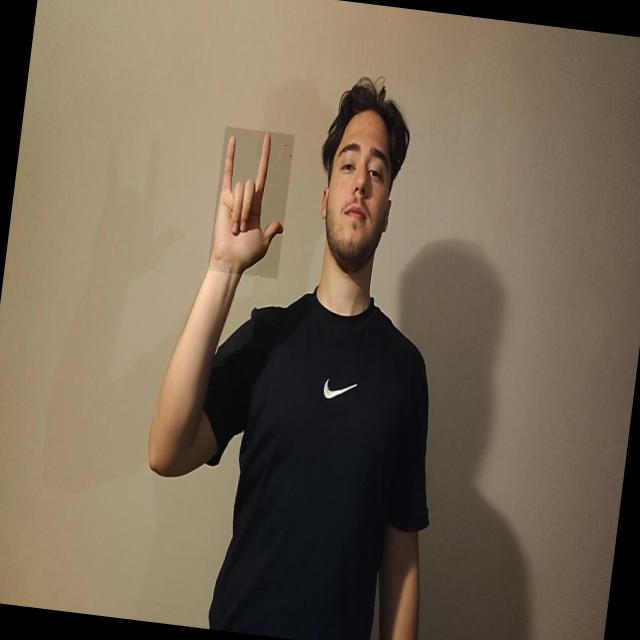iloveyou: (207, 126, 294, 280)
